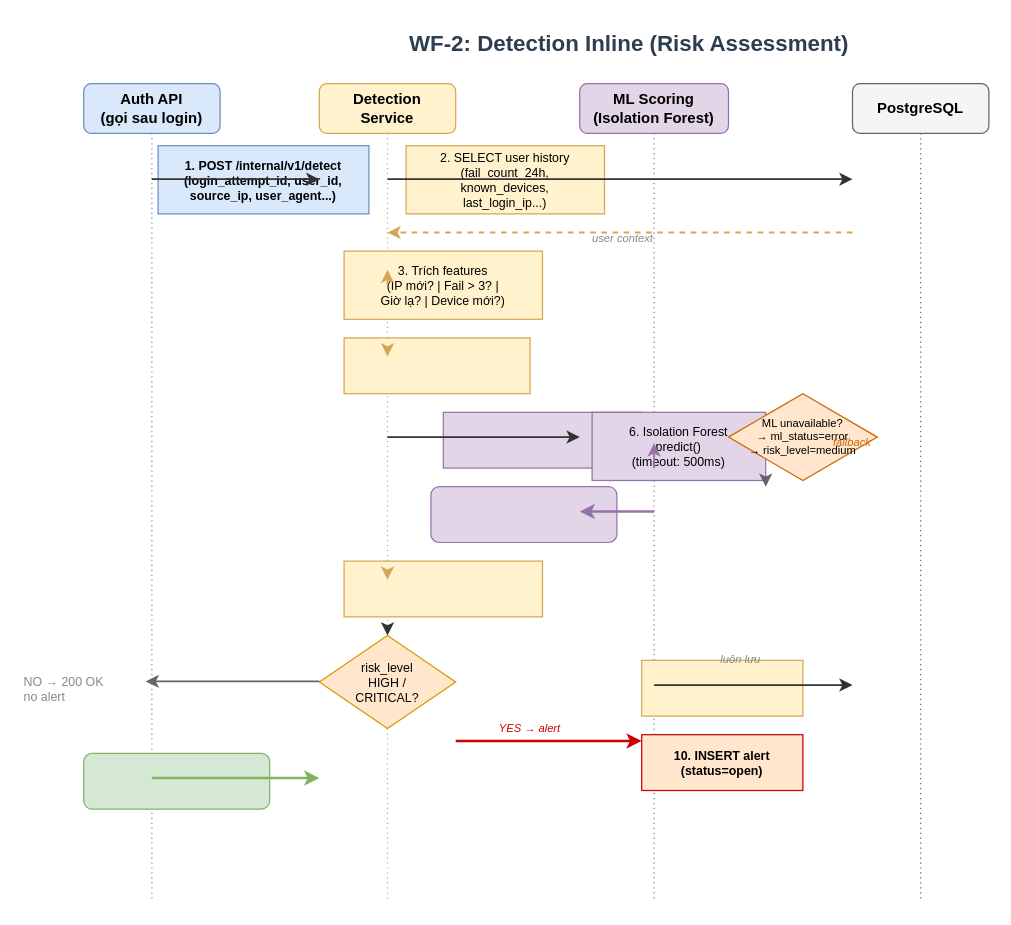
The diagram is 1011 pixels wide and 925 high, and some of its shapes have lost their labels. The box of each missing label's shape, as (x1, y1, x2, y2) in pixels:
11. {alert_created: true, risk_level: high}: (82, 752, 270, 809)
4. Tính rule_score (0.0 – 1.0): (343, 337, 530, 394)
5. POST /internal/v1/ml/score (features_vector): (442, 411, 642, 468)
7. {anomaly_score, is_anomaly, reason_codes}: (430, 485, 617, 542)
8. risk = combine( rule_score, anomaly_score): (343, 560, 542, 617)
9. INSERT risk_assessment: (640, 659, 803, 716)
